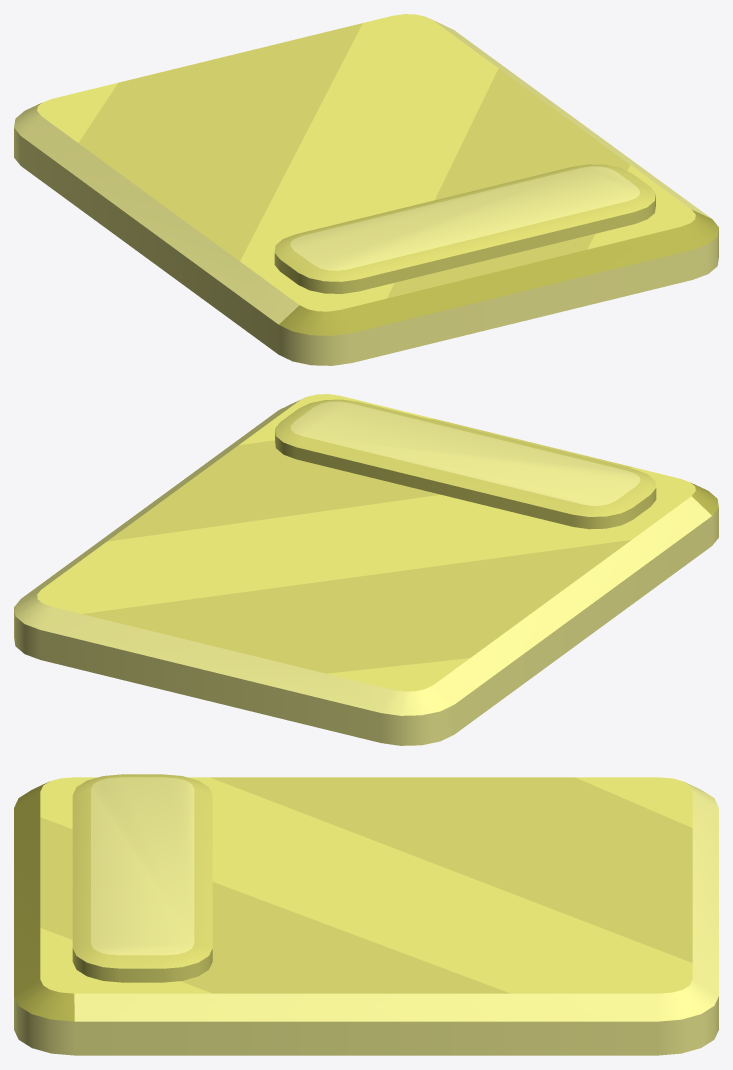
File: Merge-3LvL.fbx
The picture shows the model from 3 angles, top to bottom: view 1: azimuth 30°, elevation 25°; view 2: azimuth 150°, elevation 25°; view 3: azimuth 270°, elevation 25°; orthographic projection. The views are drawn at different scales.
Visible parts, largest first — view 1: Plane.006; view 2: Plane.006; view 3: Plane.006.
Part boxes in pixels (x1=…): Plane.006: x1=14, y1=14, x2=718, y2=365; Plane.006: x1=14, y1=394, x2=718, y2=745; Plane.006: x1=14, y1=774, x2=718, y2=1055.
Size of the model in its own units: 763 by 103 by 950.
